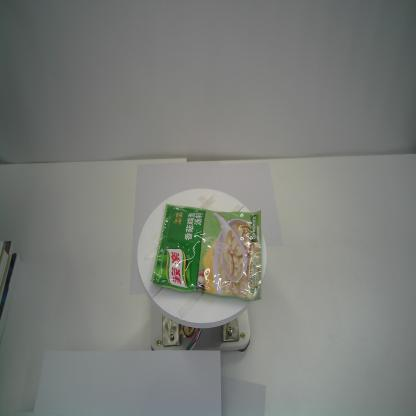Seasoner: (150, 203, 263, 301)
